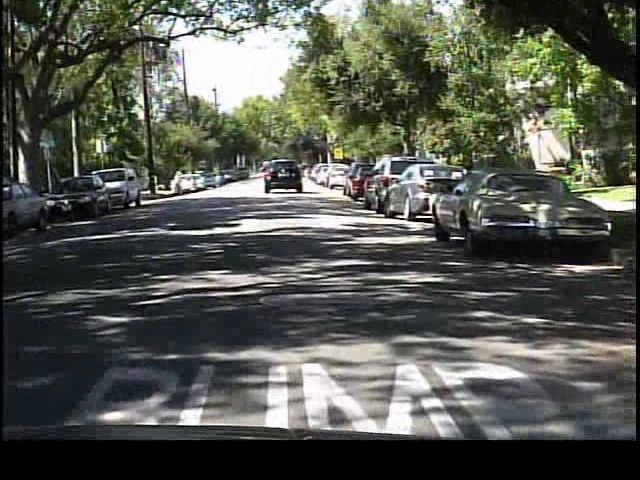person: (173, 168, 187, 198)
